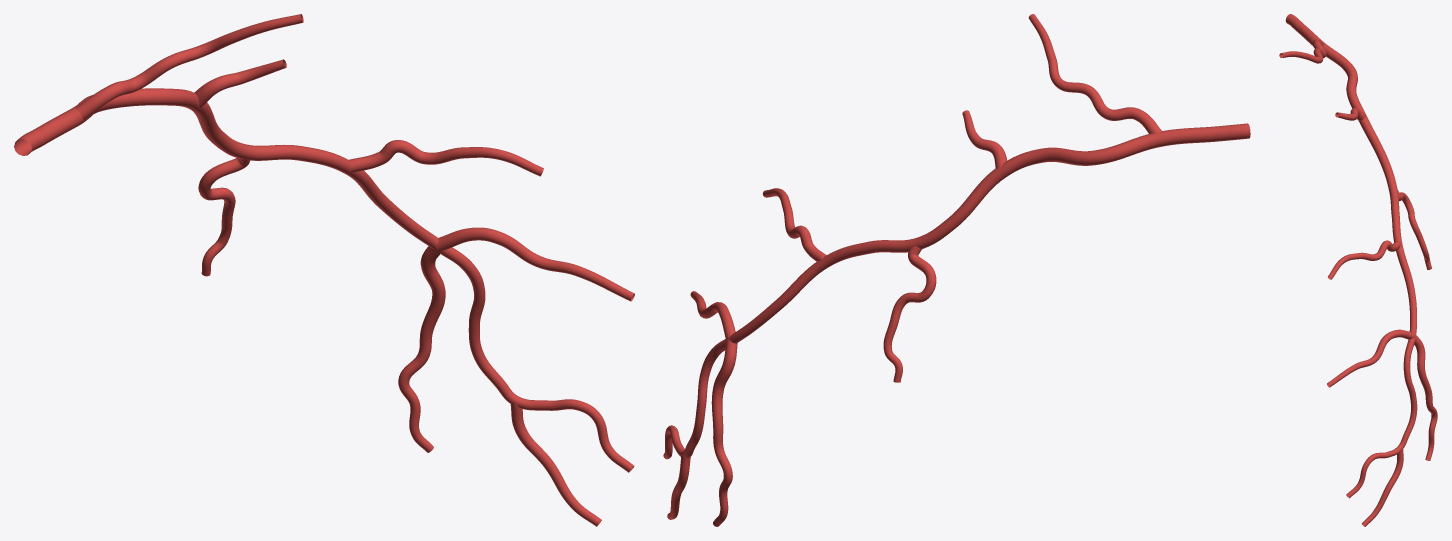
3 views of the same model, side by side, from view 1: azimuth 30°, elevation 25°; view 2: azimuth 150°, elevation 25°; view 3: azimuth 270°, elevation 25° (orthographic). The views are drawn at different scales.
Parts seen in each view (by area): view 1: 右冠状动脉右后侧支; view 2: 右冠状动脉右后侧支; view 3: 右冠状动脉右后侧支.
Boxes of the visible parts, x1,y1,x2,y2 form: 右冠状动脉右后侧支: (14, 14, 634, 526); 右冠状动脉右后侧支: (663, 14, 1250, 526); 右冠状动脉右后侧支: (1279, 14, 1437, 526).
Bounding box in the file's own units: 0.0823 × 0.077 × 0.0297.
